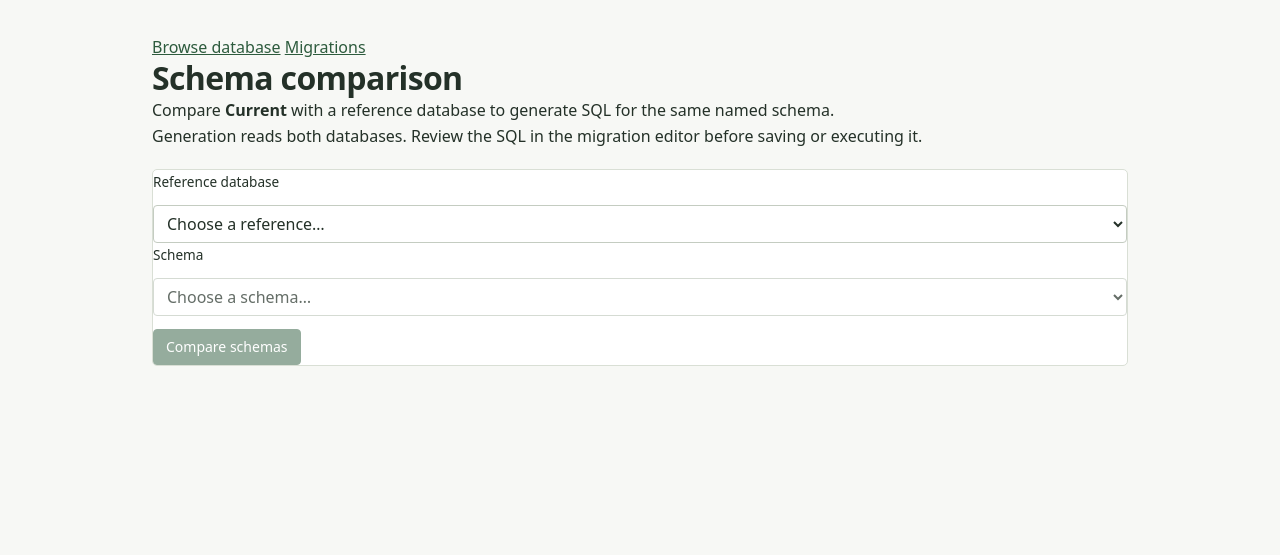
Scenario: clears stale comparison results when the chosen schema changes
Select "Reference" in the dropdown labelled "Reference database" at [640, 224], box 153,205 -> 1127,243
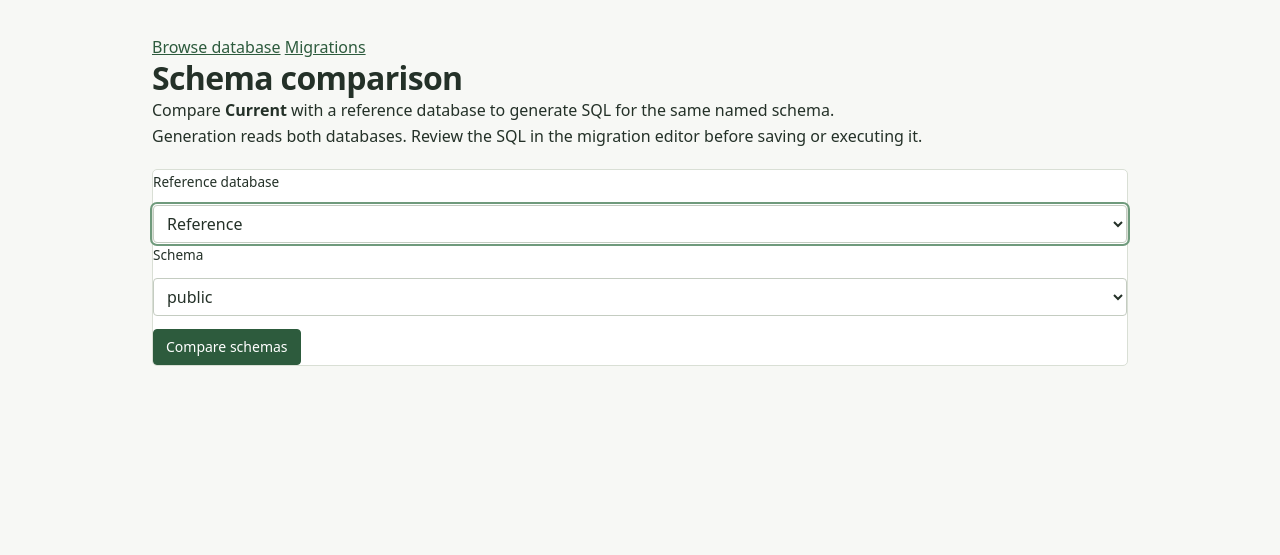
Click the button "Compare schemas" at [227, 347], box 153,329 -> 300,365
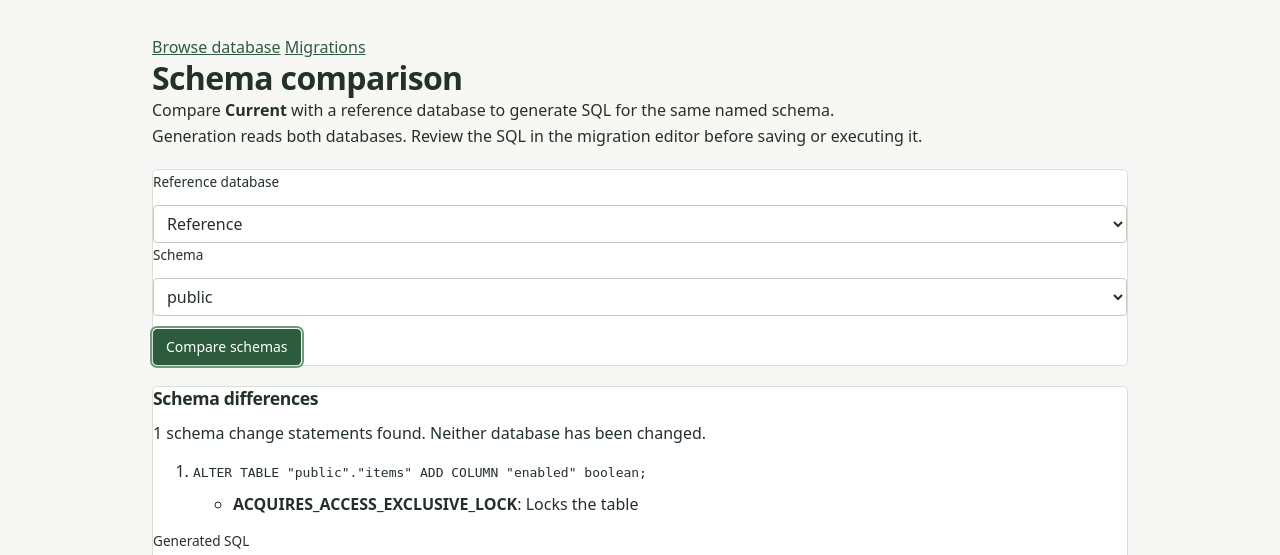
Select "quoted 表" in the dropdown labelled "Schema" at [640, 297], box 153,278 -> 1127,316
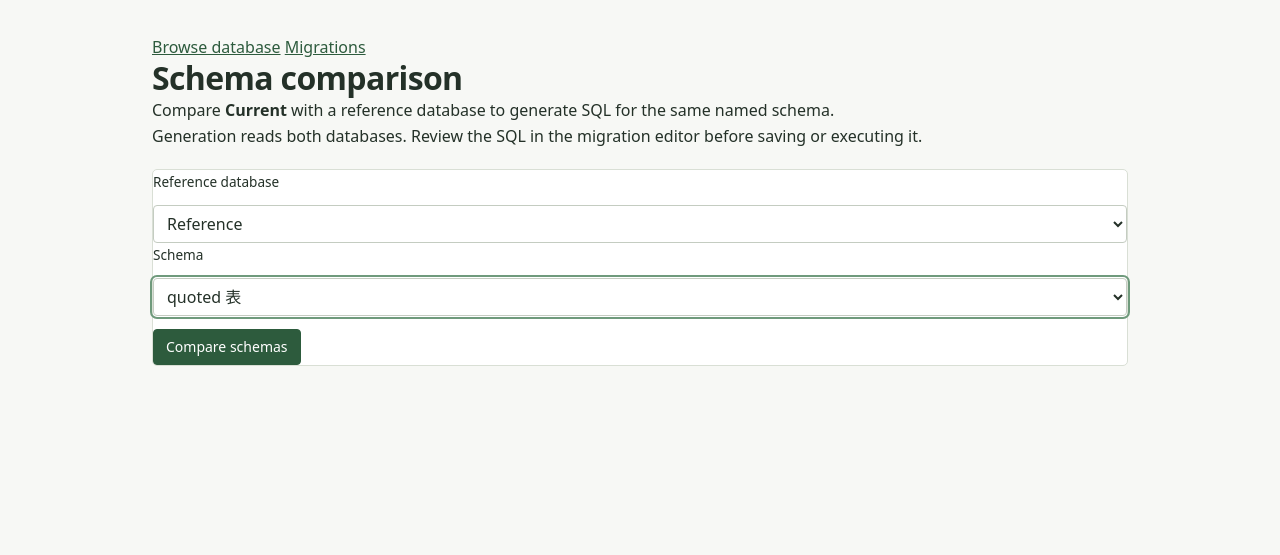
Result: the label labelled "Generated SQL" is gone
